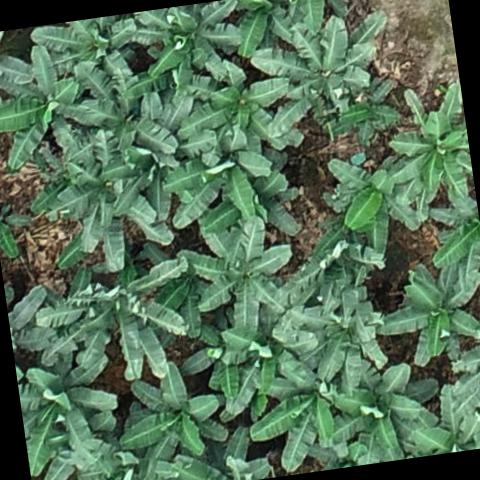Banana-plant: (66, 259, 200, 393), (52, 130, 159, 276), (176, 214, 298, 336), (155, 123, 281, 234), (246, 13, 378, 114), (110, 359, 226, 471), (16, 352, 126, 467), (72, 42, 180, 159), (172, 53, 296, 154), (370, 258, 480, 370), (332, 361, 446, 463), (385, 82, 476, 206), (0, 43, 87, 171), (135, 0, 247, 95), (328, 154, 424, 260), (221, 312, 321, 406), (294, 289, 387, 383), (31, 16, 140, 96), (294, 212, 384, 306), (406, 379, 480, 457), (329, 78, 403, 146)
